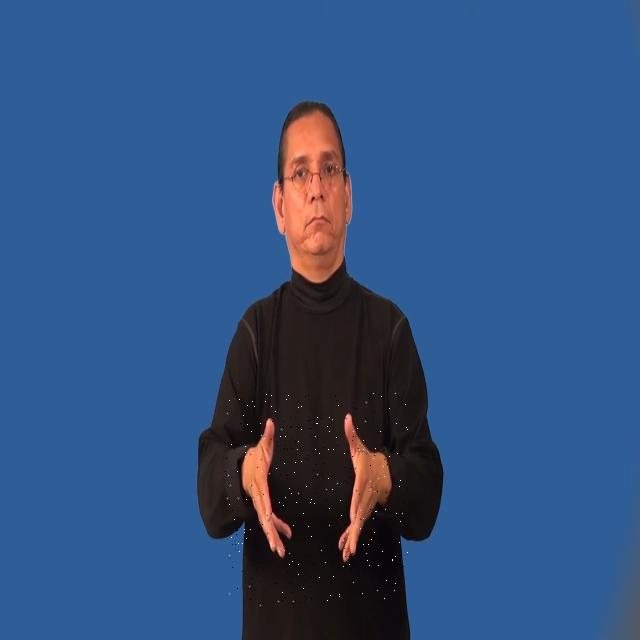total: (225, 392, 408, 606)
